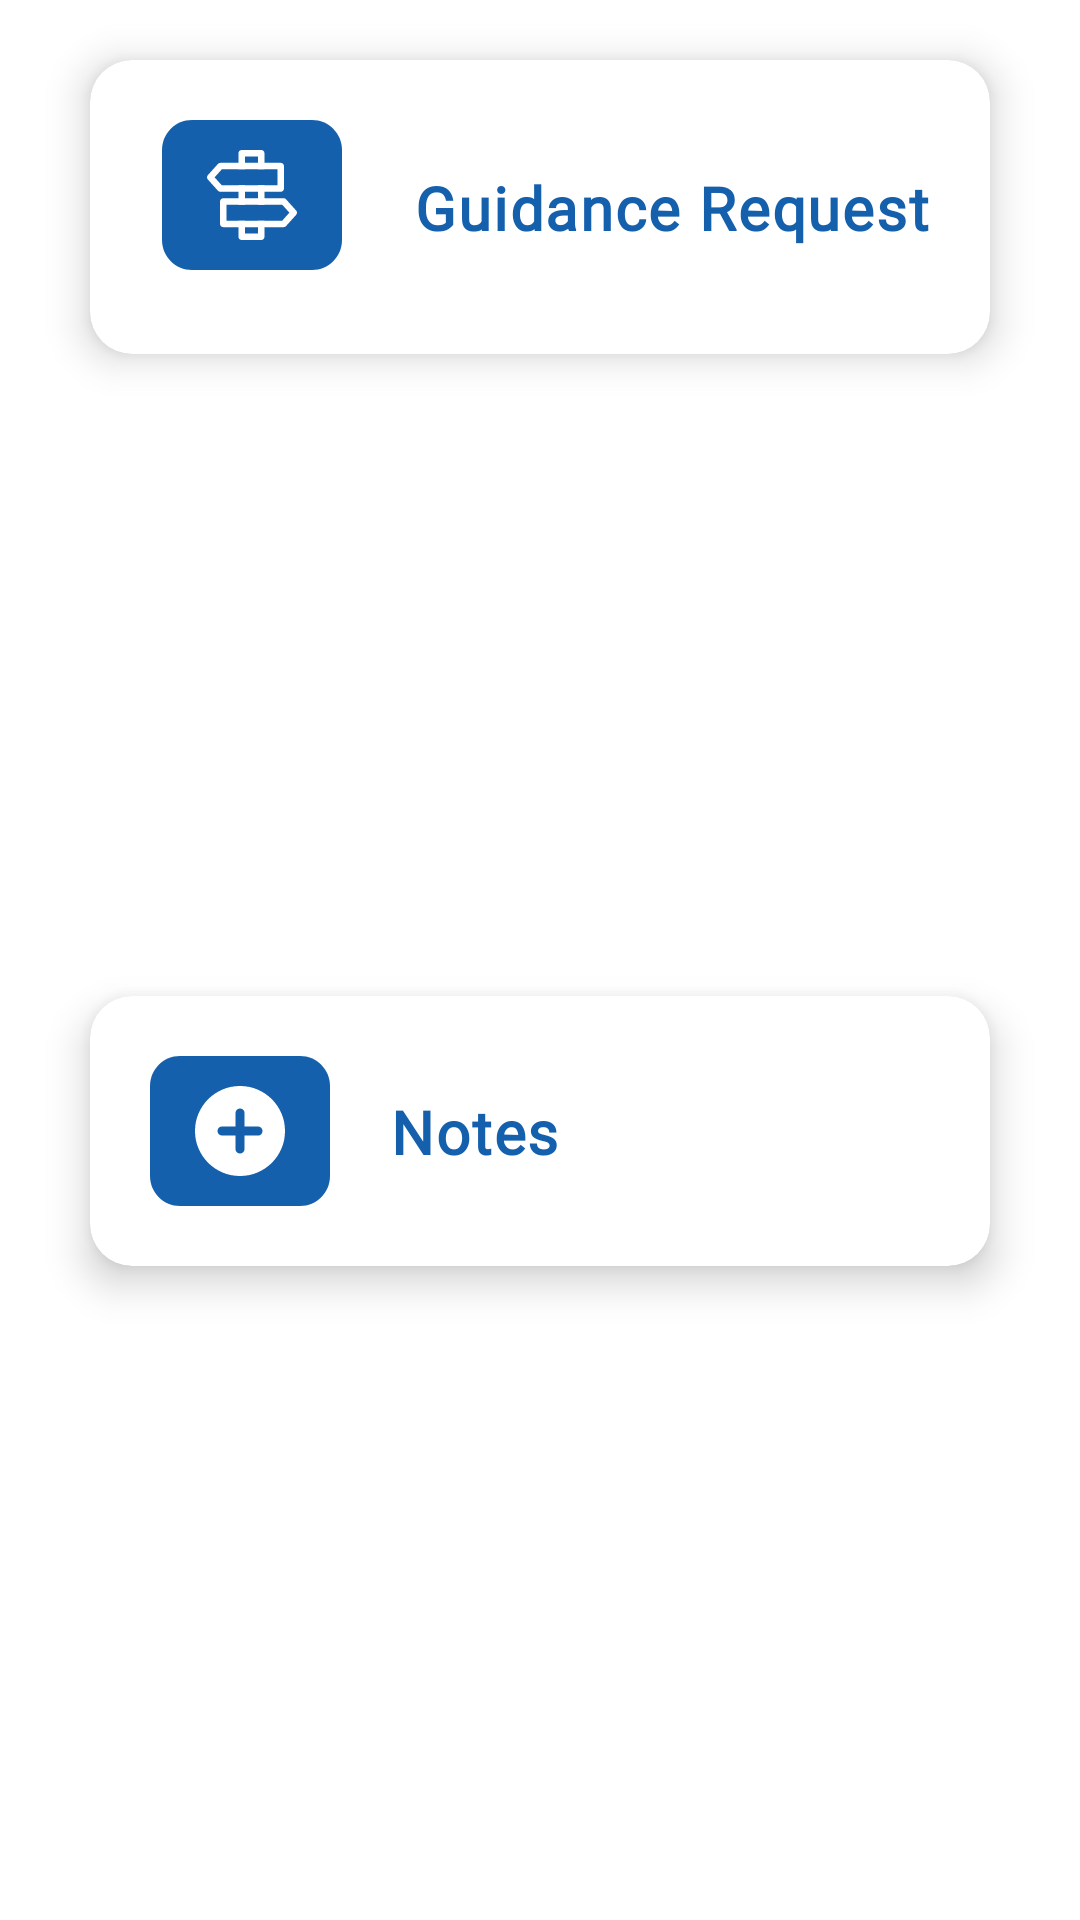

Named icons in this screenshot (1080×1920) and their bounding boxes, (x1, y1, x2, y2):
add trip: (150, 1056, 330, 1206)
